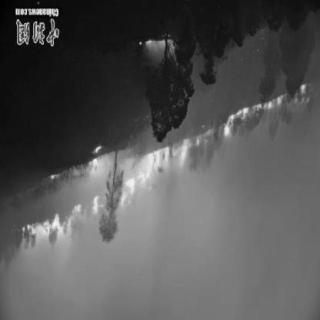Fire: (86, 140, 193, 207), (223, 83, 320, 147), (16, 204, 82, 248), (140, 40, 176, 64)
